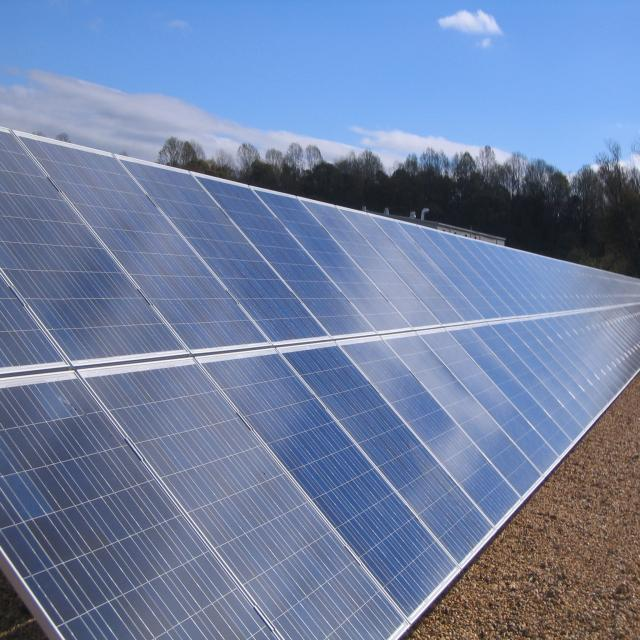clean: (2, 124, 640, 636)
